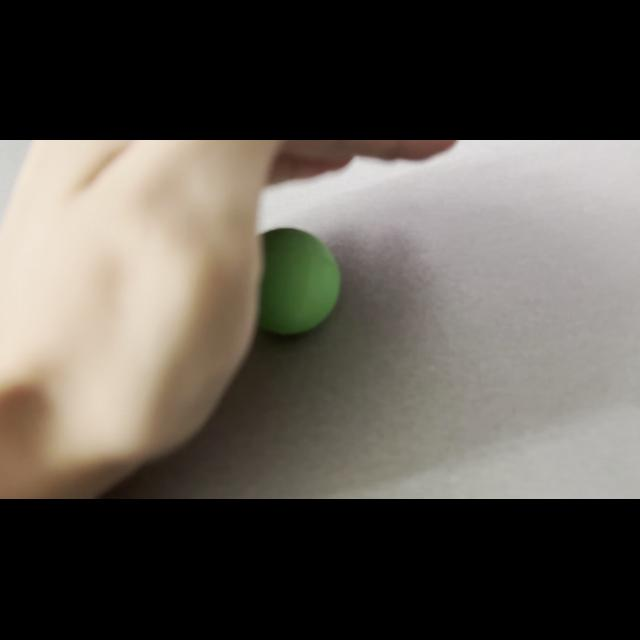objects: (252, 220, 354, 342)
